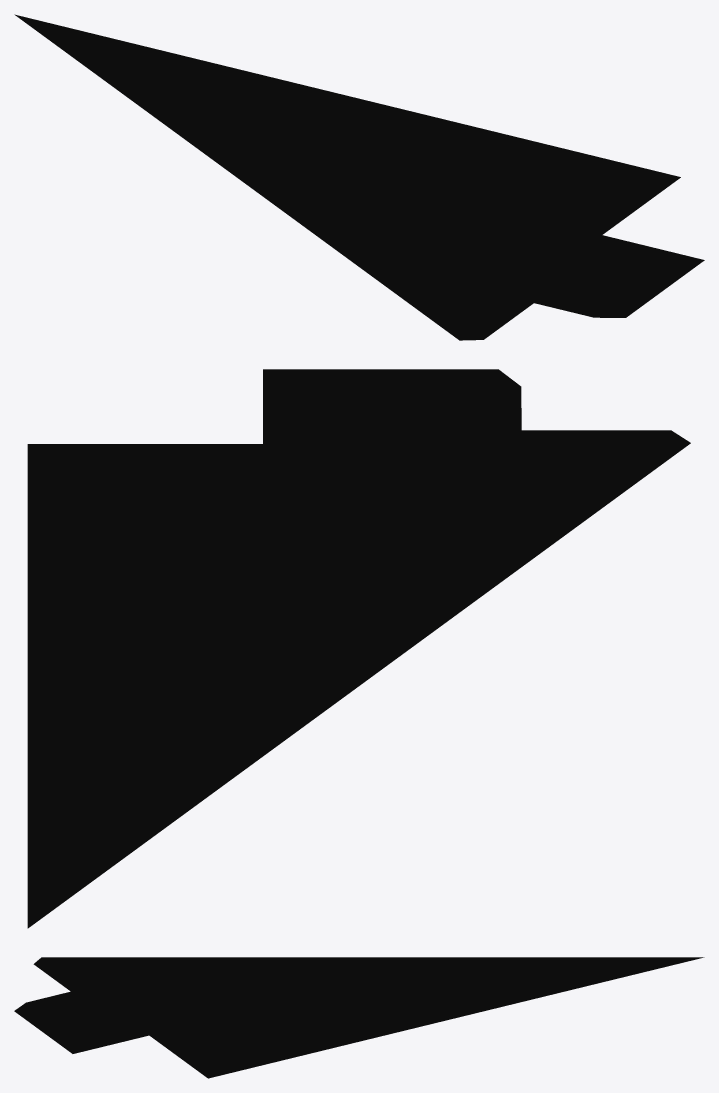
The picture shows the model from 3 angles, top to bottom: view 1: azimuth 30°, elevation 25°; view 2: azimuth 150°, elevation 25°; view 3: azimuth 270°, elevation 25°; orthographic projection. The views are drawn at different scales.
Visible parts, largest first — view 1: Joint_0_Object_0; view 2: Joint_0_Object_0; view 3: Joint_0_Object_0.
Part boxes in pixels (x1,y1,x2,y2): Joint_0_Object_0: (14, 14, 704, 340); Joint_0_Object_0: (27, 369, 690, 928); Joint_0_Object_0: (14, 957, 704, 1078).
Size of the model in its own units: 1777 by 0 by 4280.
Materials: 1 (1 with a texture image).
